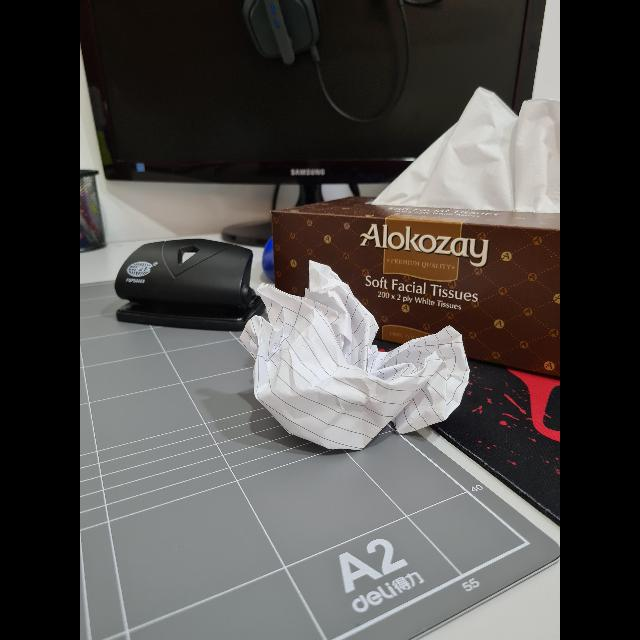scrap_paper: (241, 264, 471, 450)
